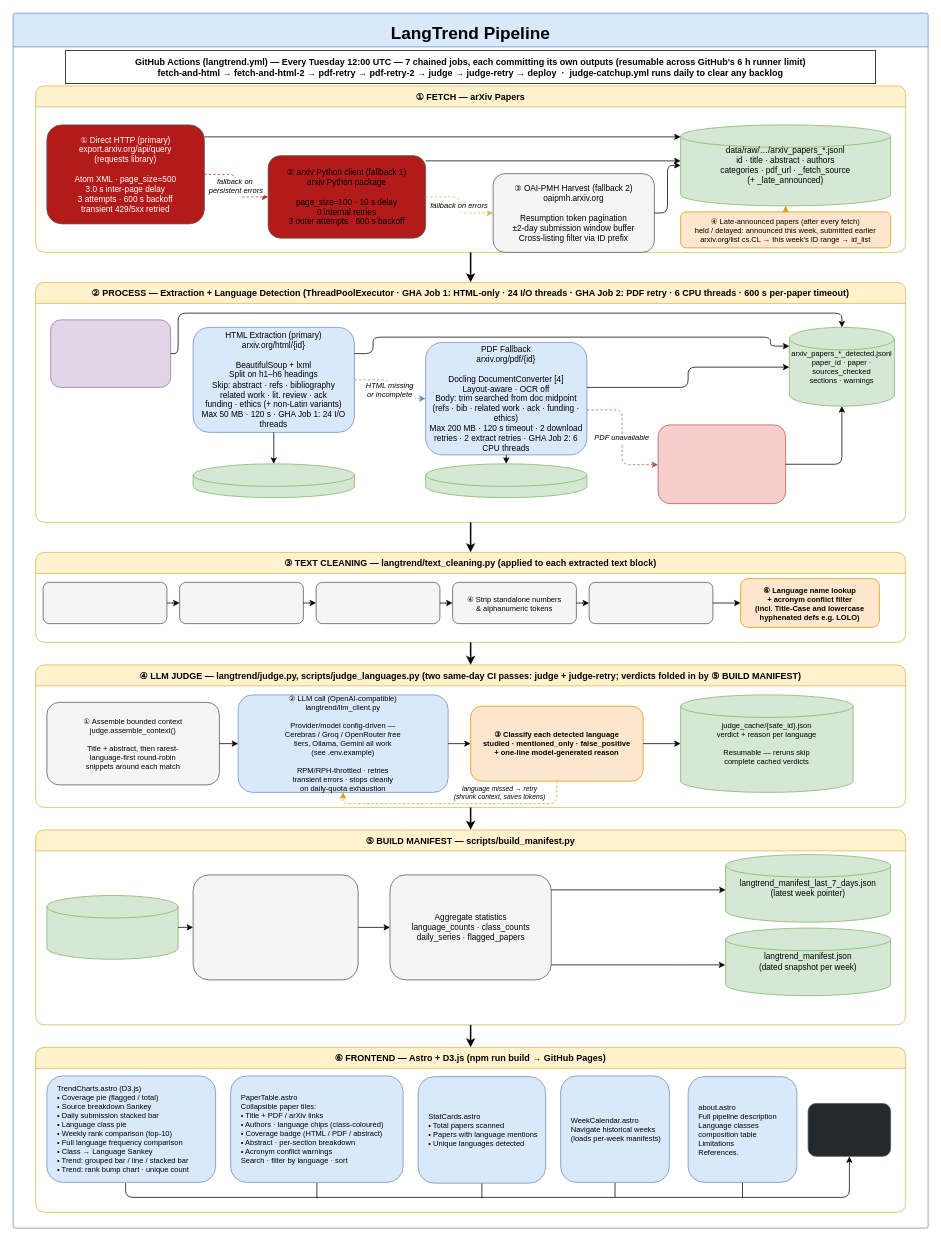
This 941x1241 diagram has some shape labels left out. The centre of each missing label's shape, as x and y in pixels:
Abstract (always scanned) From JSONL metadata: the point at 110,353
Abstract Only (final fallback) sources_checked: ["abstract"]: the point at 721,464
GitHub Pages static deploy: the point at 849,1129
html_cache/{id}.json per-section detections: the point at 273,480
language_data.json (language names, class 0–5, ignore lists): the point at 112,927
Merge detections abstract + html_cache + pdf_cache Dedup by (language, class): the point at 275,927
pdf_cache/{id}.json text + detections: the point at 506,480
① Remove citations et al. + year patterns: the point at 104,603
② Strip LaTeX math $…$ · display math · commands: the point at 241,603
③ Remove code patterns (Python defs, col assigns): the point at 377,603
⑤ Normalize whitespace & color/LaTeX artifacts: the point at 650,603
